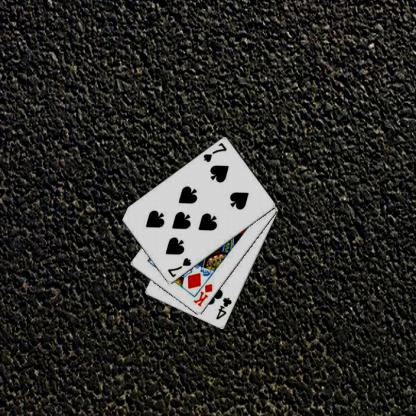4C: (213, 295, 233, 321)
7S: (165, 255, 192, 279), (201, 140, 228, 164)
KD: (191, 281, 214, 308)
